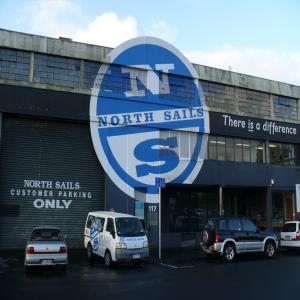Vehicle-registration-plate: (43, 260, 53, 266), (134, 254, 142, 260), (207, 251, 211, 255), (286, 237, 291, 240)
